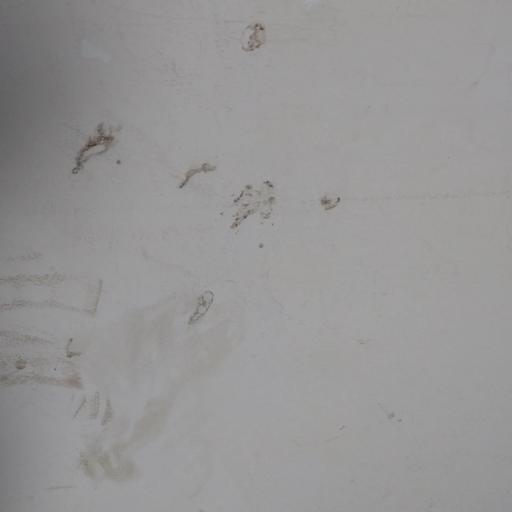stain: (0, 240, 126, 439), (71, 386, 216, 501), (56, 99, 148, 215), (226, 174, 295, 243), (170, 277, 241, 339), (214, 11, 282, 59), (171, 153, 225, 195), (316, 189, 353, 227)
